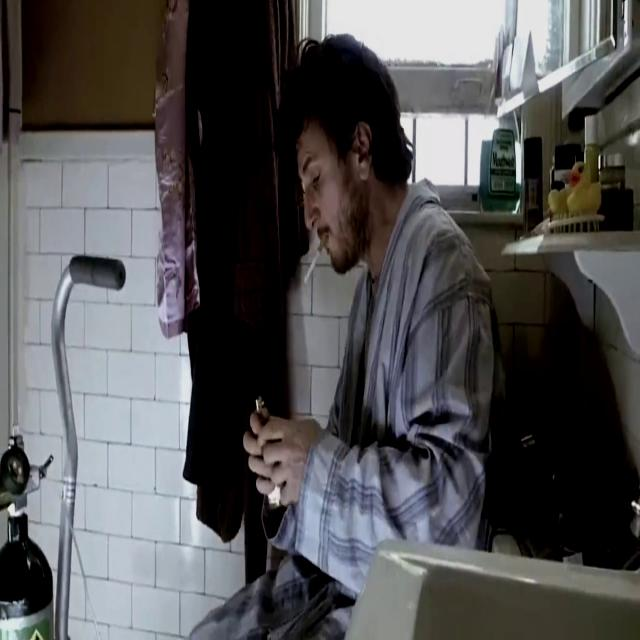Smooking: (298, 226, 330, 300)
